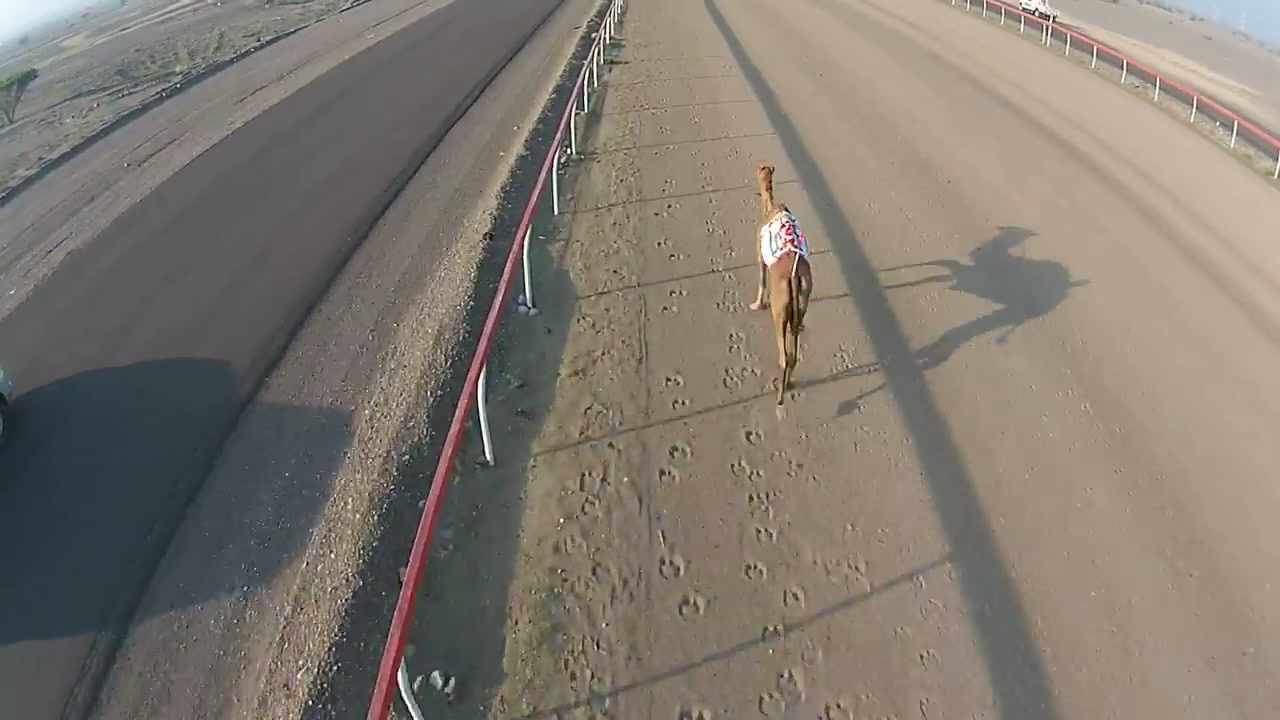animal_foot_print: (646, 195, 846, 711)
